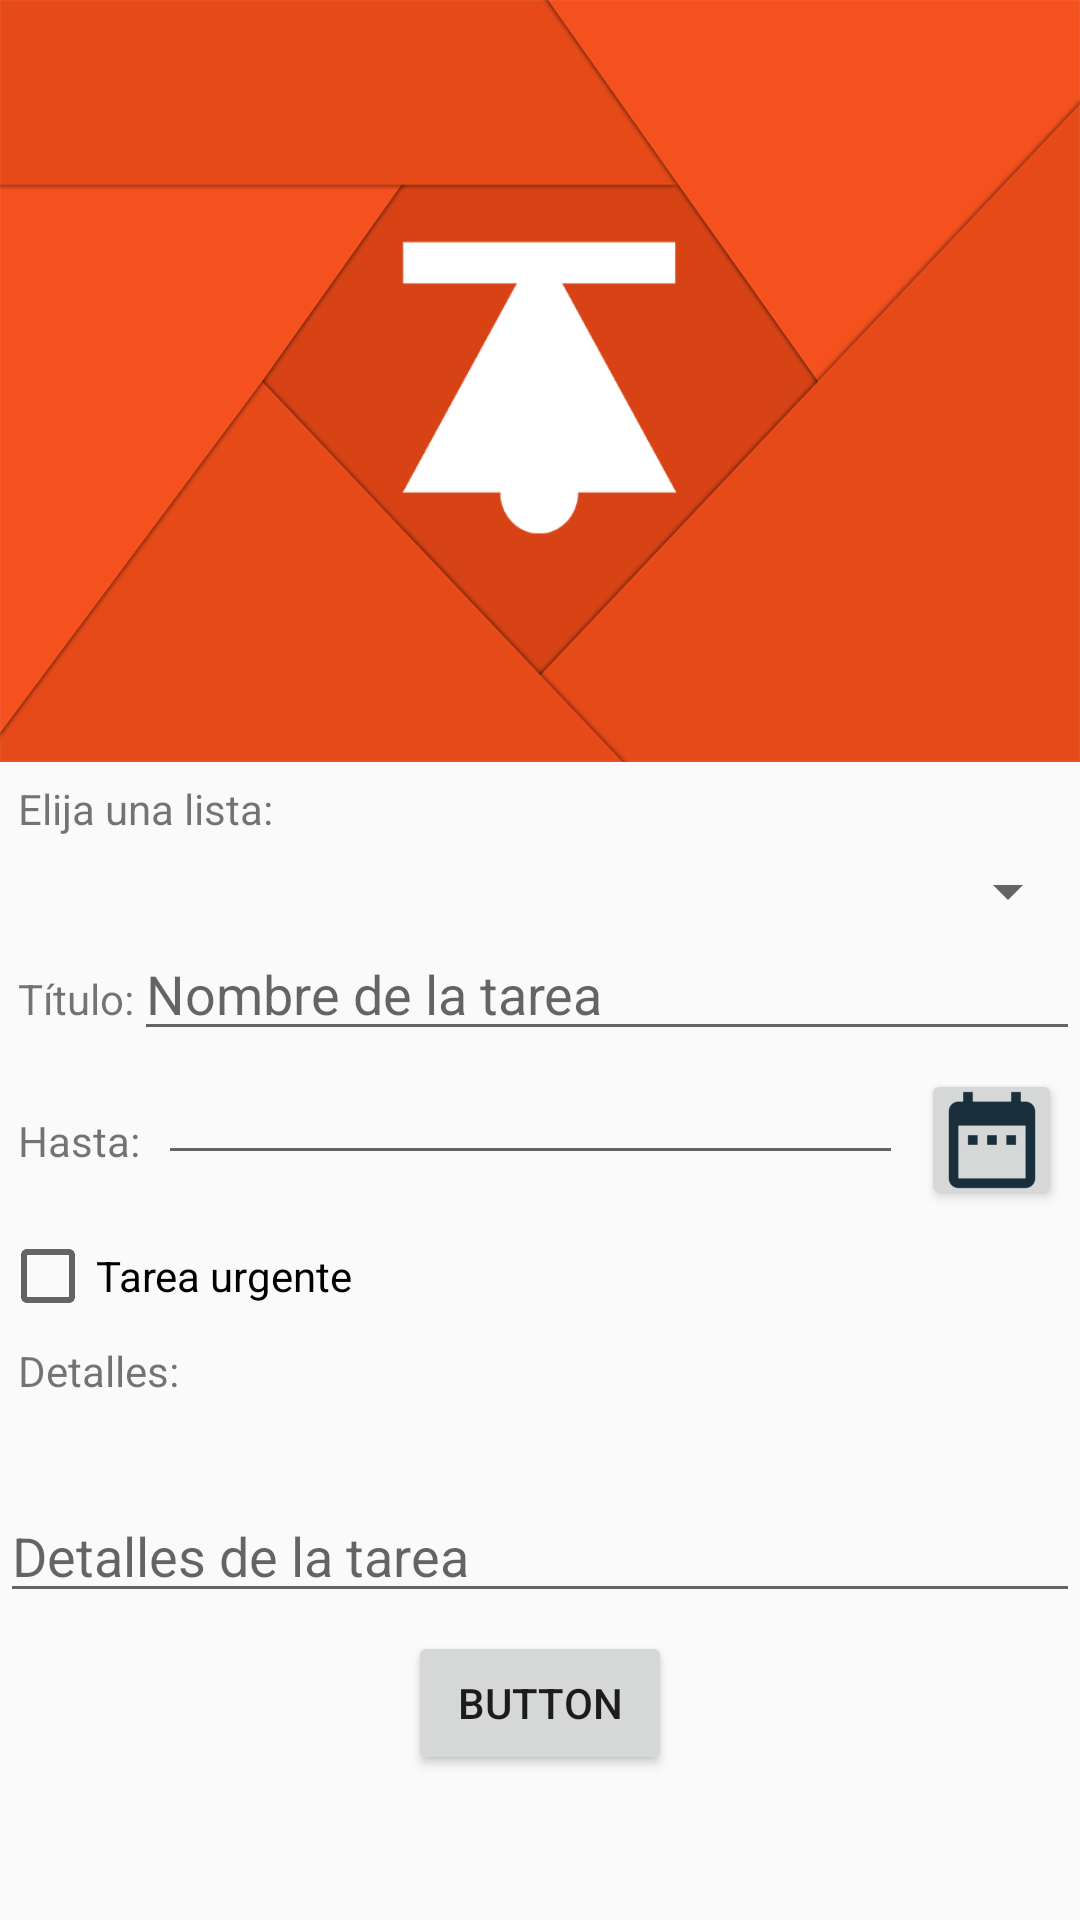

Icon bounding boxes for this 1080w x 1920h phone screenshot, format (x1, y1, x2, y2):
date: (933, 1087, 1051, 1195)
